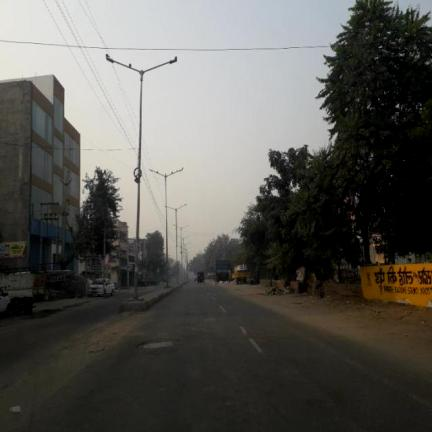Road: (6, 283, 431, 431)
